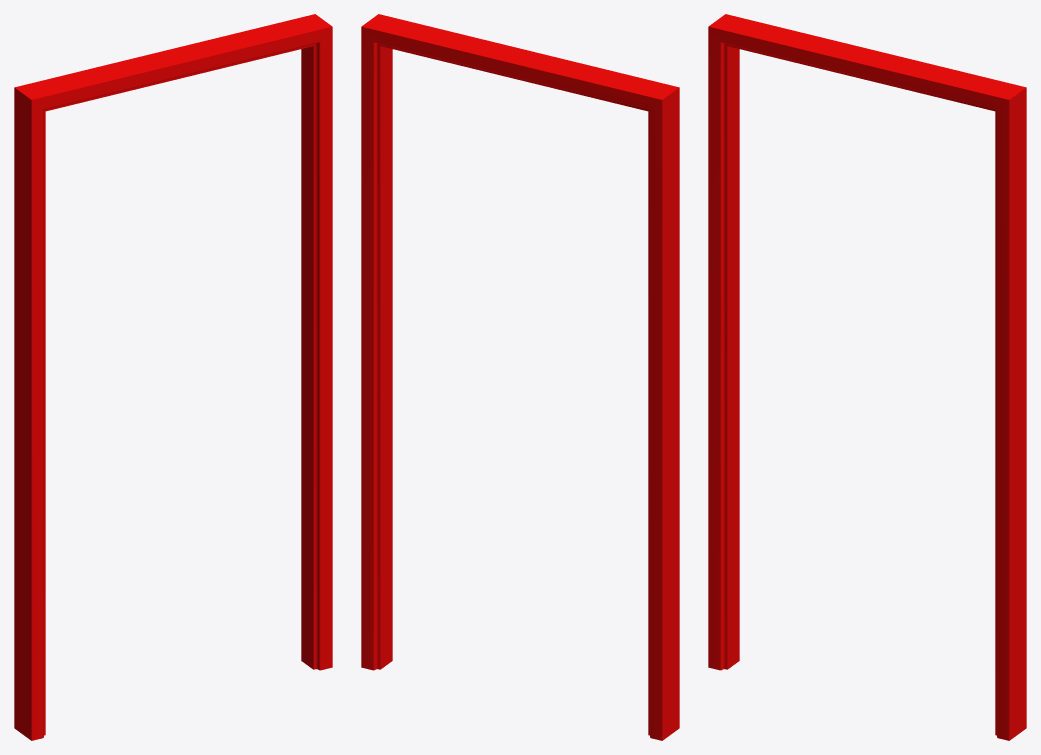
Rendered from doorway_3.glb.
3 views of the same model, side by side, from view 1: azimuth 30°, elevation 25°; view 2: azimuth 150°, elevation 25°; view 3: azimuth 330°, elevation 25° (orthographic).
Visible parts, largest first — view 1: doorway_3; view 2: doorway_3; view 3: doorway_3.
Part boxes in pixels (left/top/right/bottom): doorway_3: left=14, top=14, right=332, bottom=740; doorway_3: left=361, top=14, right=679, bottom=740; doorway_3: left=708, top=14, right=1026, bottom=740.
Bounding box in the file's own units: 1.02 × 2.08 × 0.1014.
